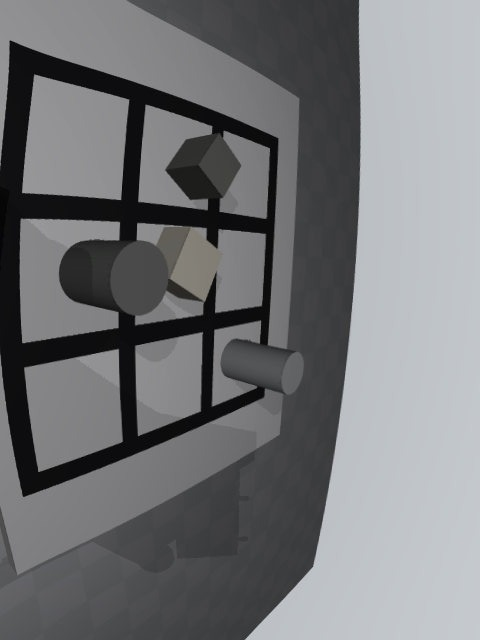can: (221, 338, 304, 394)
cube: (165, 133, 242, 200)
cylinder: (59, 240, 169, 316)
foam: (156, 227, 223, 303)
